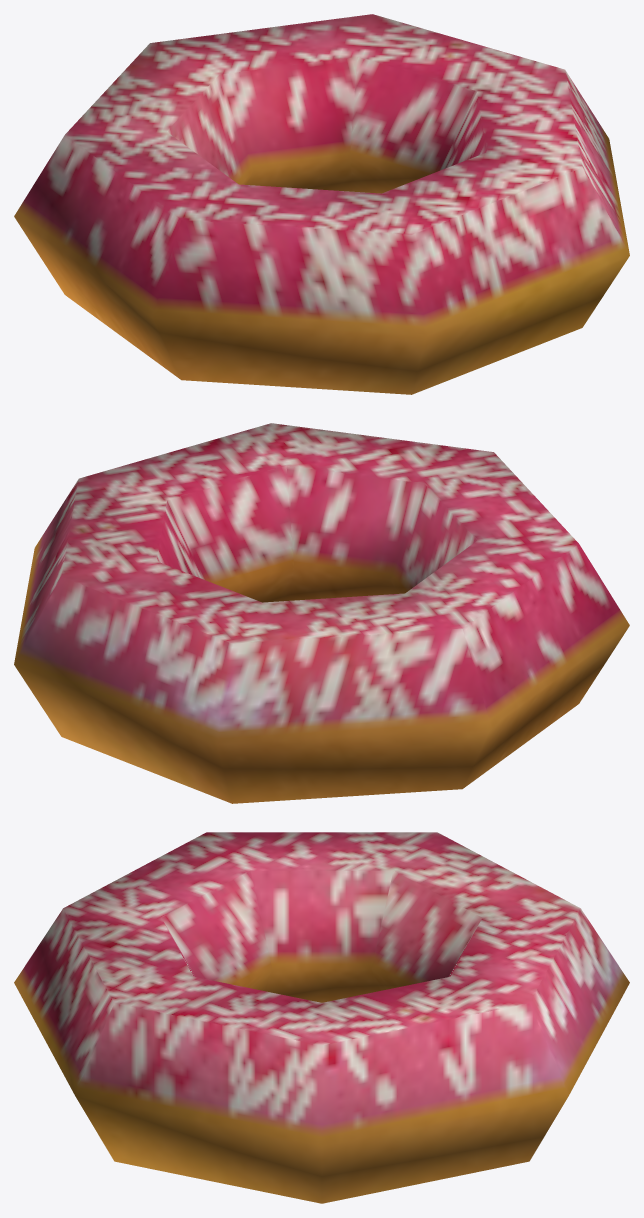
The model's file is DonutType1.glb.
The picture shows the model from 3 angles, top to bottom: view 1: azimuth 30°, elevation 25°; view 2: azimuth 150°, elevation 25°; view 3: azimuth 270°, elevation 25°; orthographic projection.
Visible parts, largest first — view 1: Donut_01; view 2: Donut_01; view 3: Donut_01.
Boxes of the visible parts, left/top/right/bottom form: Donut_01: left=14, top=14, right=629, bottom=394; Donut_01: left=14, top=423, right=629, bottom=803; Donut_01: left=14, top=832, right=629, bottom=1203.
Bounding box in the file's own units: 0.2093 × 0.0609 × 0.2147.
Materials: 1 (1 with a texture image).
